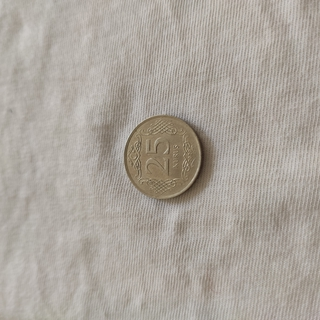25KURUS: (121, 113, 204, 201)
